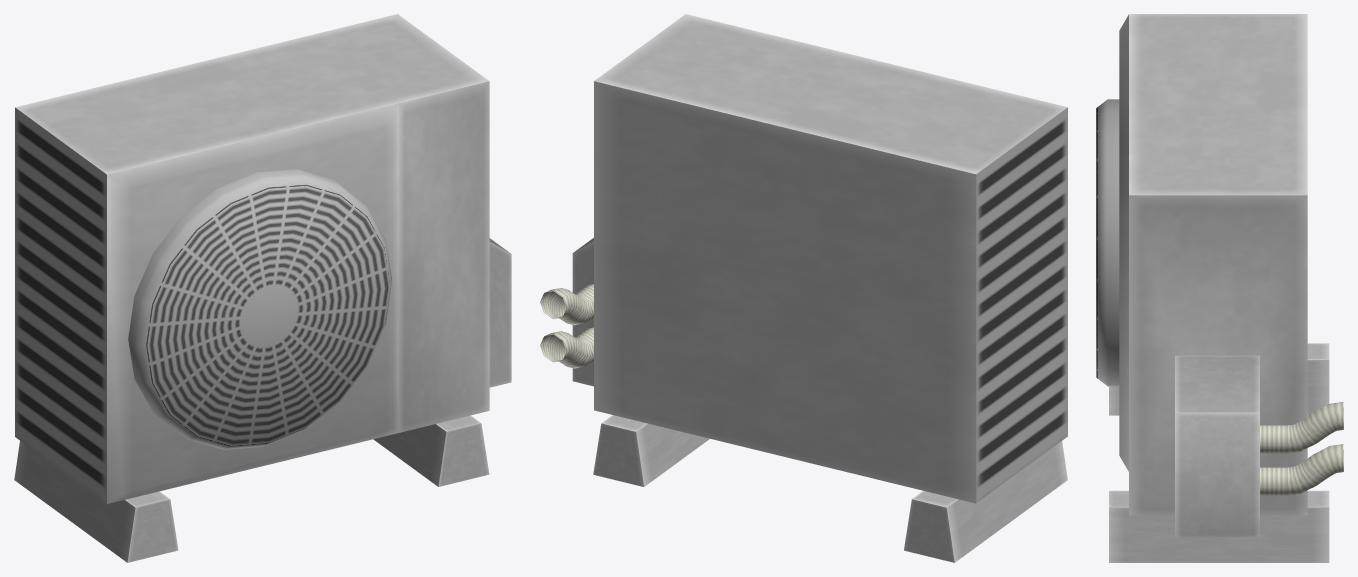
The model's file is Compressorunit.fbx.
3 renders of one model, left to right at view 1: azimuth 30°, elevation 25°; view 2: azimuth 150°, elevation 25°; view 3: azimuth 270°, elevation 25°, orthographic. The views are drawn at different scales.
Visible parts, largest first — view 1: body, foot; view 2: body, foot; view 3: body, foot.
Boxes of the visible parts, <box> form: body: <box>15,14,511,503</box>; foot: <box>14,415,489,562</box>; body: <box>540,14,1067,503</box>; foot: <box>593,415,1067,562</box>; body: <box>1096,14,1343,537</box>; foot: <box>1109,343,1329,562</box>.
Bounding box in the file's own units: 169 × 145 × 87.35.
